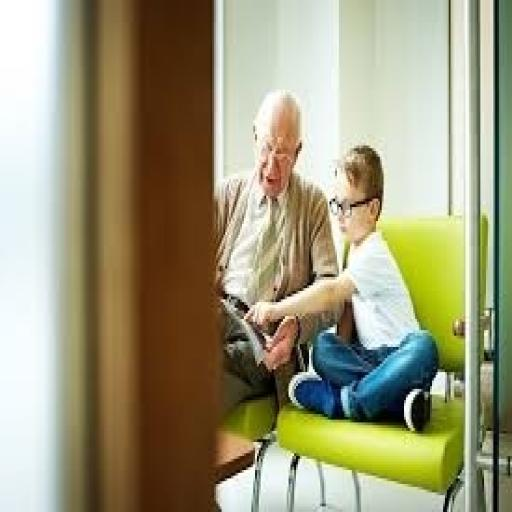sitting: (287, 140, 439, 434), (210, 87, 341, 411)
